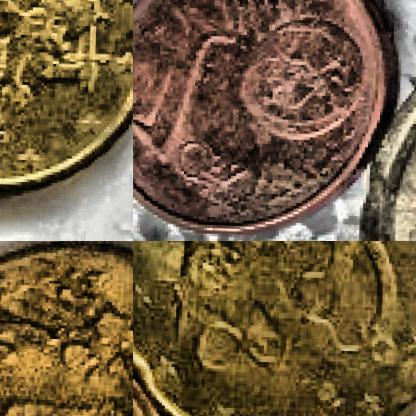coin: (133, 0, 394, 238), (133, 241, 415, 415), (0, 0, 132, 202), (0, 241, 132, 415)
